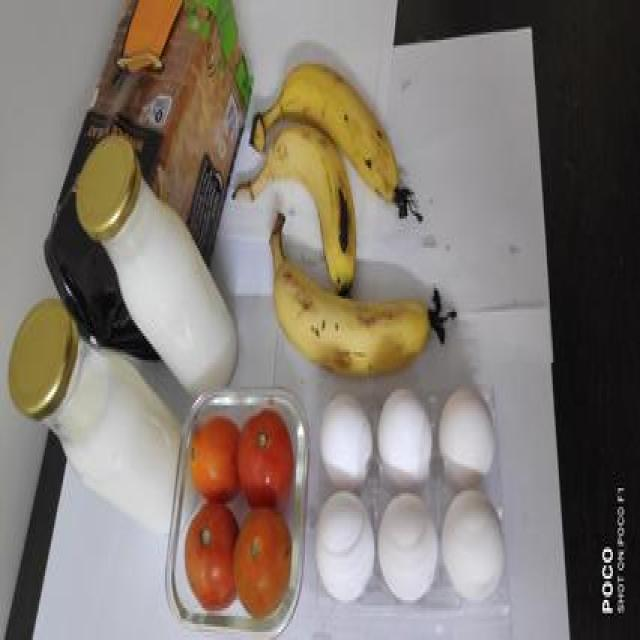Fresh_tomato: (192, 403, 296, 628)
